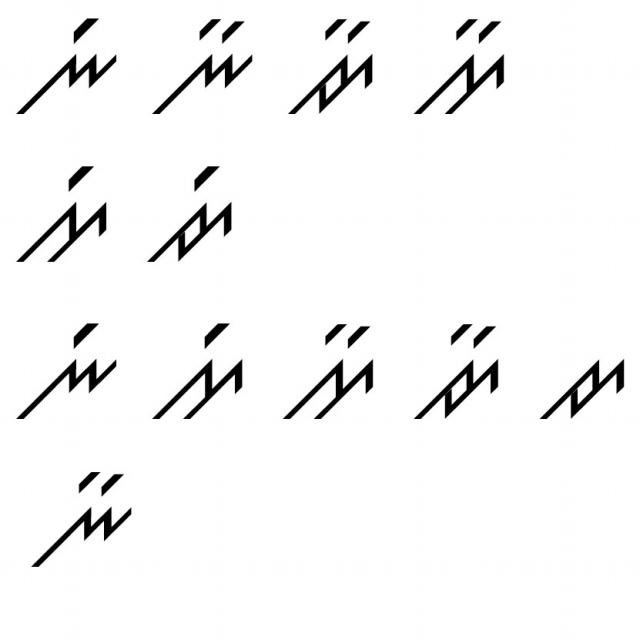ja: (529, 343, 629, 426)
jan: (405, 316, 507, 428), (283, 15, 377, 119)
jang: (142, 157, 251, 274)
nyan: (148, 11, 260, 118), (24, 469, 139, 571)
nyang: (11, 314, 126, 424), (13, 12, 124, 123)
san: (276, 319, 381, 433), (406, 15, 507, 121)
sang: (150, 311, 250, 422), (15, 160, 111, 271)
